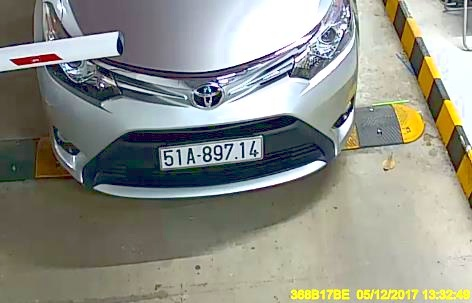plate: (157, 136, 264, 171)
